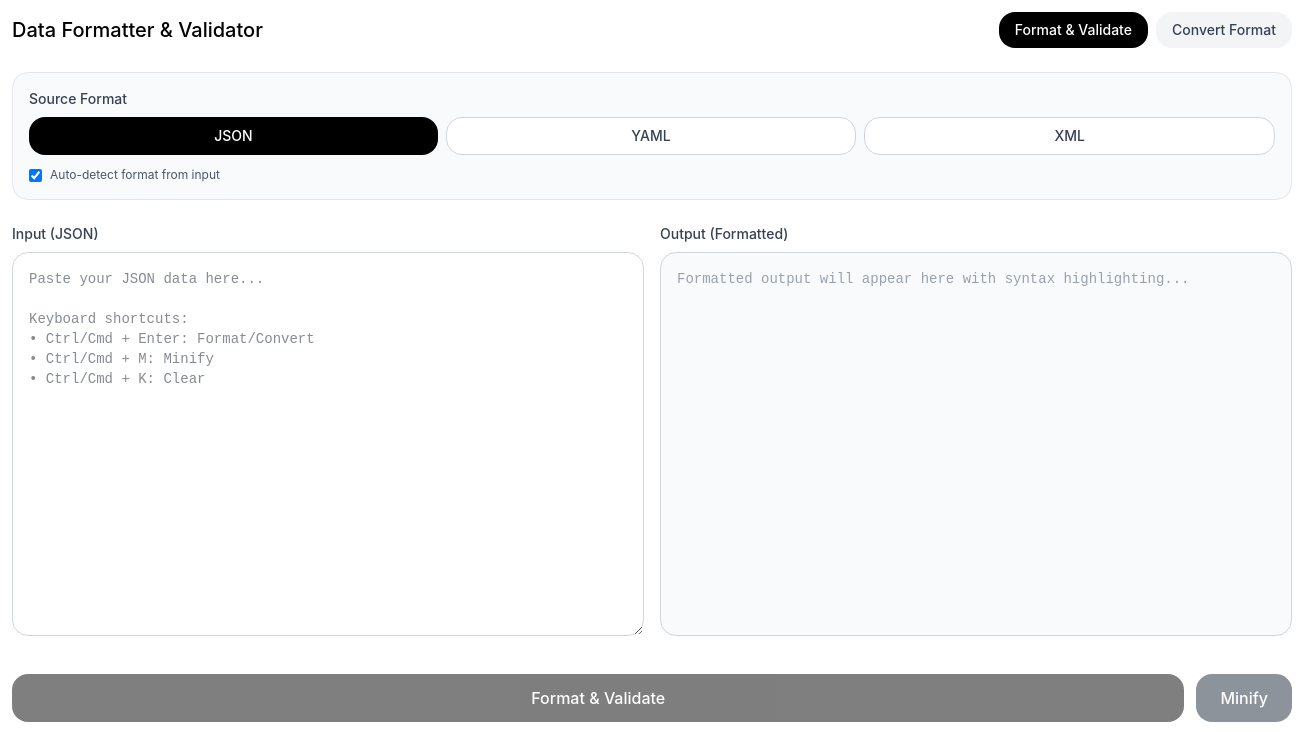
DataFormatterValidator Component › Input Handling › should clear input when Clear button is clicked
Click the text box with placeholder "Paste your JSON data here". click: (328, 444)
box: [12,252,644,636]
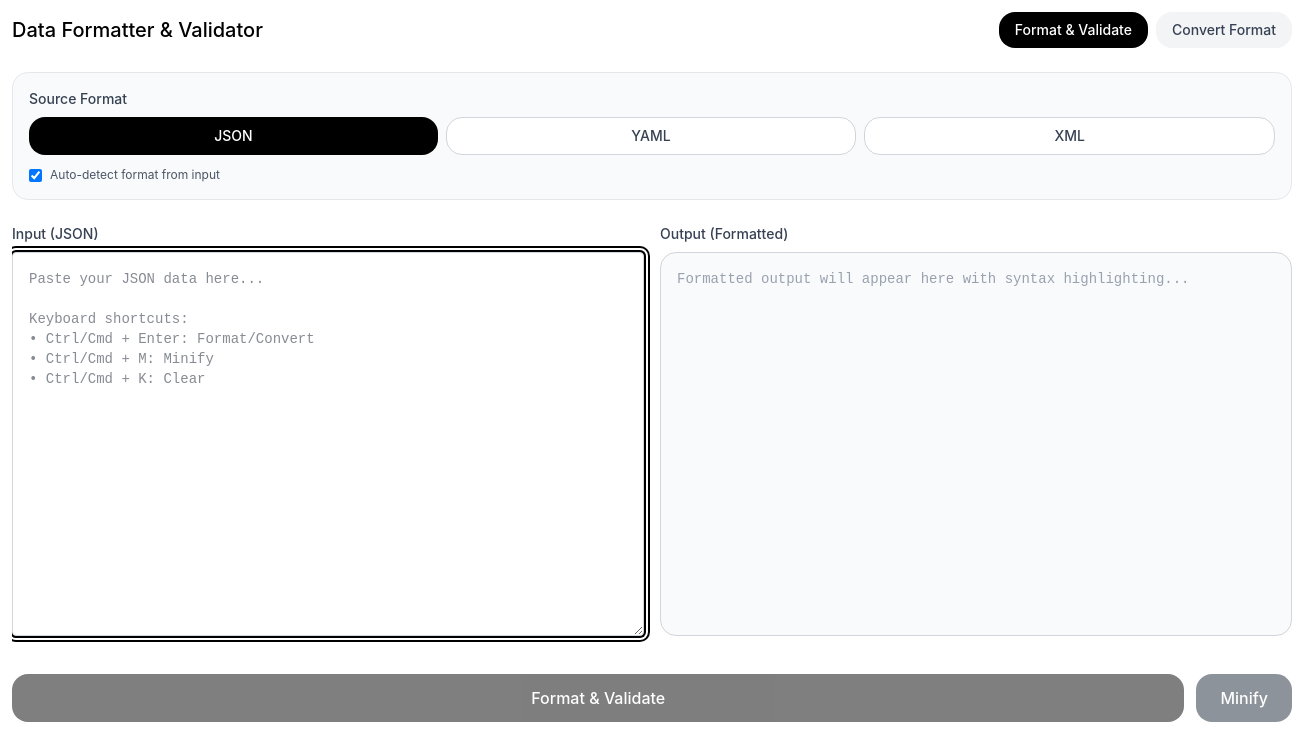
Type keys "{\"test\": \"value\"}"
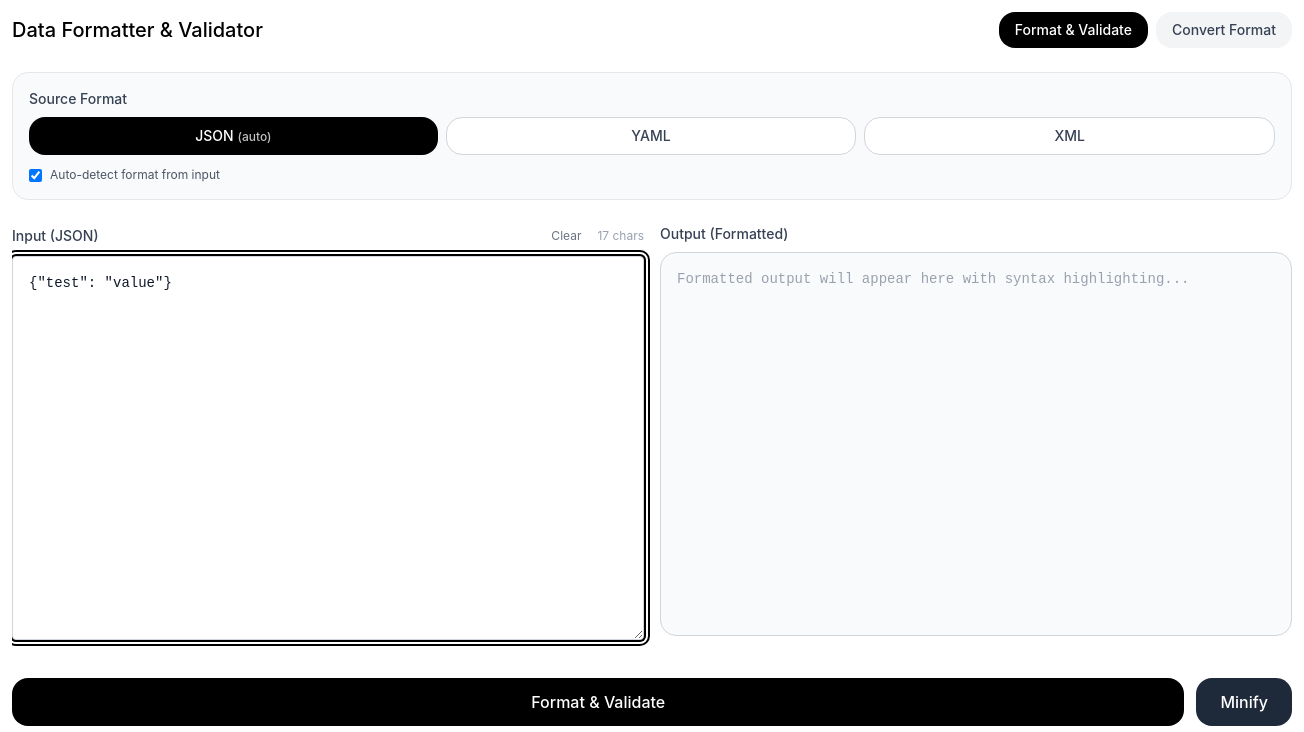
Click the button with aria-label "Clear input". click: (566, 236)
box: [543,224,589,248]
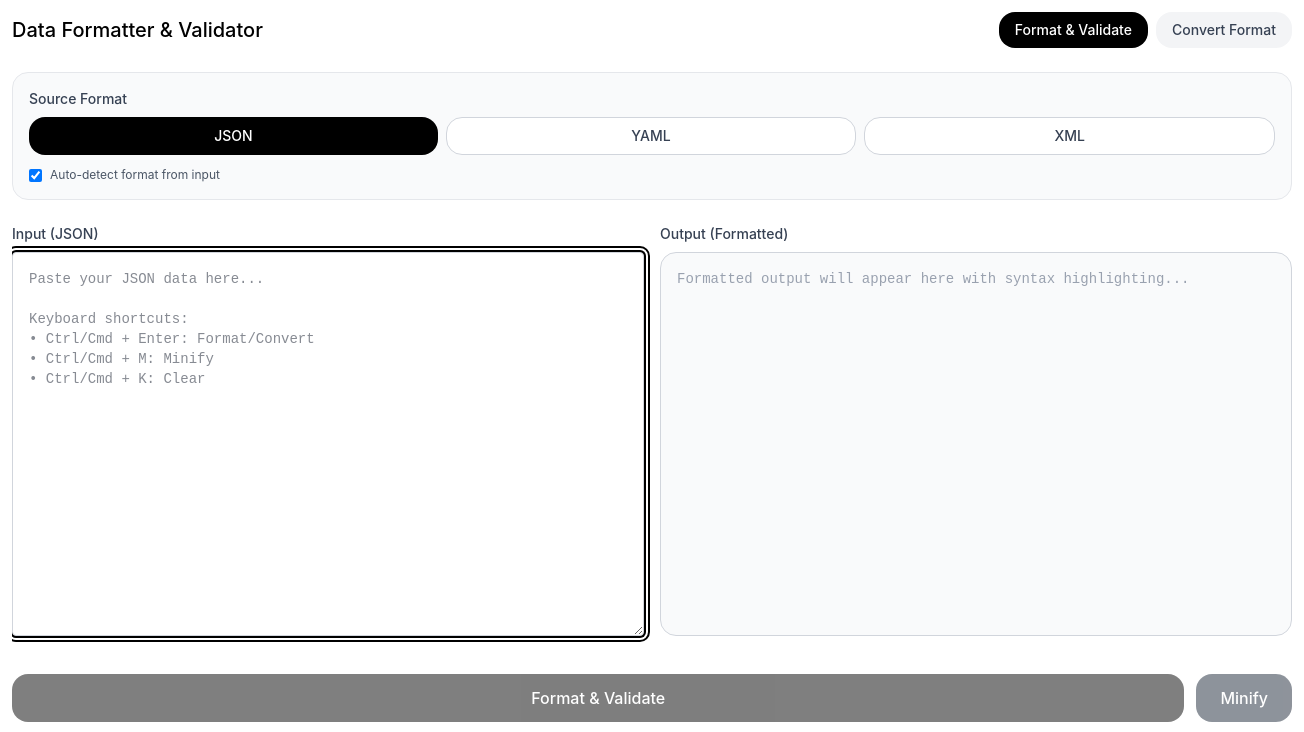
Result: the text box with placeholder "Paste your JSON data here" is empty at [12,252,644,636]
